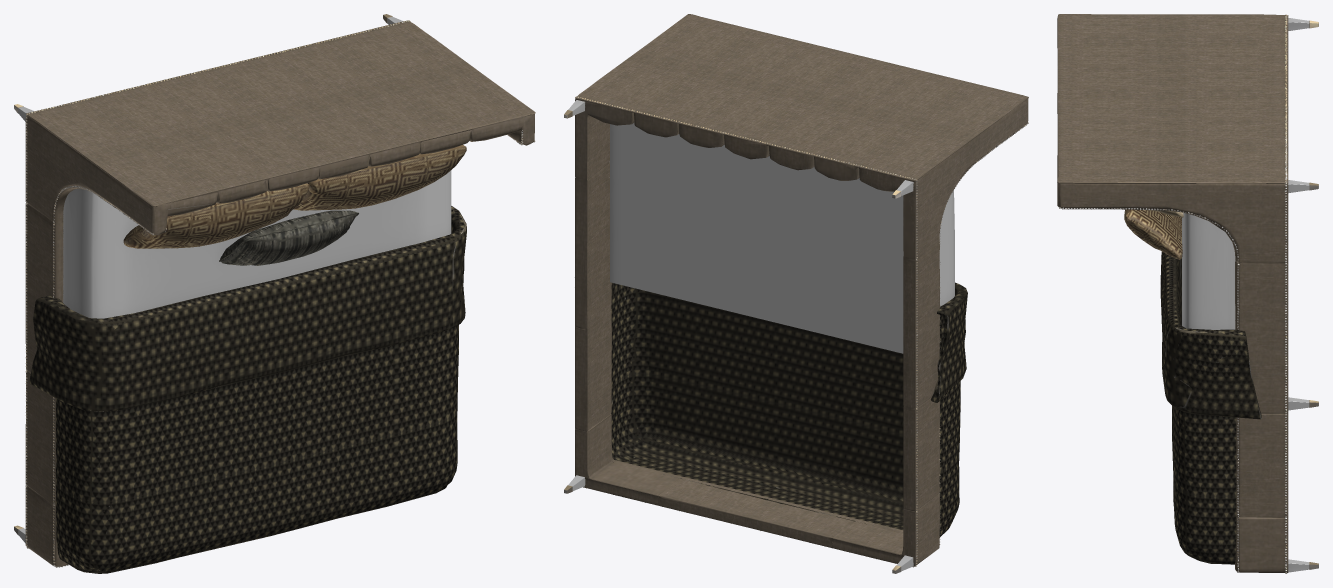
Rendered from Bed_glb.glb.
3 views of the same model, side by side, from view 1: azimuth 30°, elevation 25°; view 2: azimuth 150°, elevation 25°; view 3: azimuth 270°, elevation 25° (orthographic). The views are drawn at different scales.
Parts seen in each view (by area): view 1: raw_model.003; view 2: raw_model.003; view 3: raw_model.003.
Part boxes in pixels (x1=…): raw_model.003: x1=14, y1=14, x2=535, y2=573; raw_model.003: x1=564, y1=14, x2=1028, y2=573; raw_model.003: x1=1057, y1=14, x2=1318, y2=573.
Size of the model in its own units: 2.07 by 2.1 by 1.26.
1 material, 1 textured.
